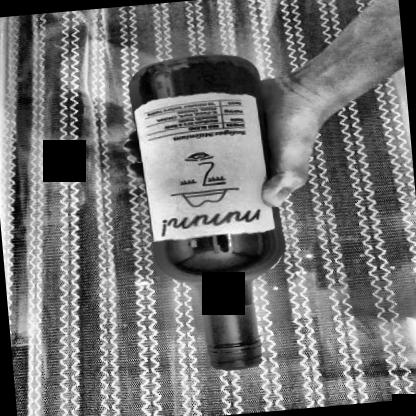umm: (134, 87, 270, 245)
